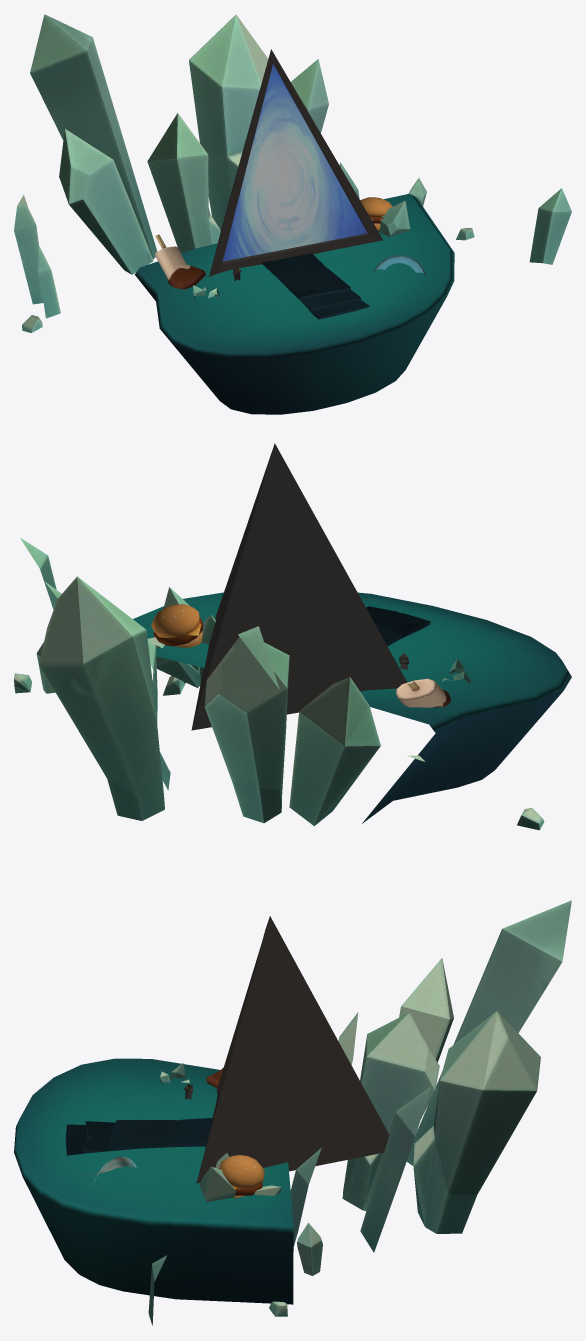
The model's file is st3_exit.gltf.
3 renders of one model, top to bottom at view 1: azimuth 30°, elevation 25°; view 2: azimuth 150°, elevation 25°; view 3: azimuth 270°, elevation 25°, orthographic. The views are drawn at different scales.
Visible parts, largest first — view 1: crystal_gate_GEO2:PIV, island_GEO17:PIV, pPlane1, pCone1, st3_exit_GRP:PIV, icecream_GEO1:PIV, crystal_GEO1:PIV, burgermonster_GEO16:PIV; view 2: crystal_gate_GEO2:PIV, pCone1, island_GEO17:PIV, burgermonster_GEO16:PIV, crystal_GEO1:PIV, st3_exit_GRP:PIV, icecream_GEO1:PIV; view 3: island_GEO17:PIV, crystal_gate_GEO2:PIV, pCone1, st3_exit_GRP:PIV, burgermonster_GEO16:PIV, crystal_GEO1:PIV.
Part boxes in pixels (x1,y1,x2,y2): crystal_gate_GEO2:PIV: [14, 14, 571, 332]; island_GEO17:PIV: [134, 193, 454, 414]; pPlane1: [222, 64, 367, 261]; pCone1: [209, 49, 382, 276]; st3_exit_GRP:PIV: [262, 253, 369, 319]; icecream_GEO1:PIV: [155, 234, 205, 289]; crystal_GEO1:PIV: [378, 200, 410, 236]; burgermonster_GEO16:PIV: [360, 197, 392, 230]; crystal_gate_GEO2:PIV: [14, 538, 544, 830]; pCone1: [191, 443, 407, 730]; island_GEO17:PIV: [133, 592, 571, 823]; burgermonster_GEO16:PIV: [151, 604, 202, 647]; crystal_GEO1:PIV: [148, 587, 215, 695]; st3_exit_GRP:PIV: [366, 606, 430, 646]; icecream_GEO1:PIV: [396, 678, 450, 707]; island_GEO17:PIV: [14, 1058, 293, 1304]; crystal_gate_GEO2:PIV: [148, 900, 571, 1325]; pCone1: [196, 916, 388, 1183]; st3_exit_GRP:PIV: [65, 1118, 212, 1155]; burgermonster_GEO16:PIV: [218, 1155, 264, 1198]; crystal_GEO1:PIV: [199, 1153, 281, 1202].
Bounding box in the file's own units: 9244 × 5221 × 7868.
